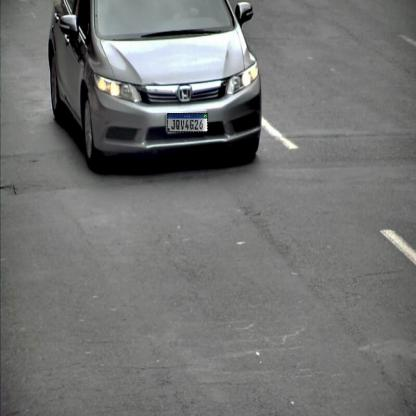PlacaM: (167, 113, 208, 132)
